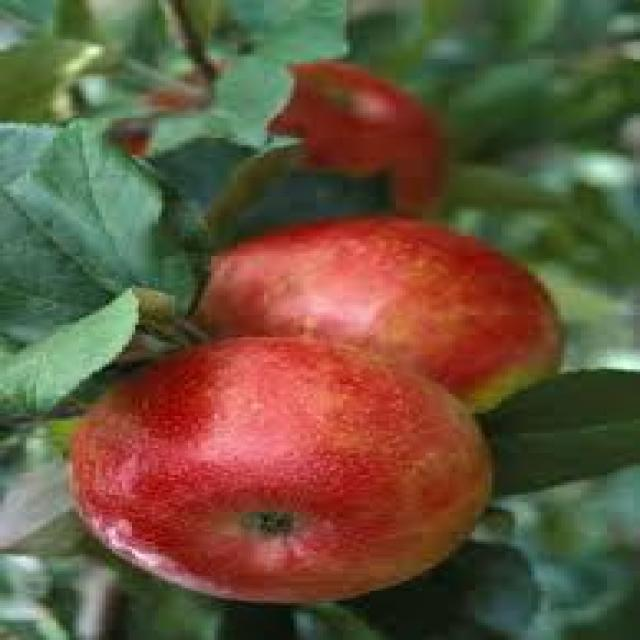apple: (71, 339, 495, 606)
